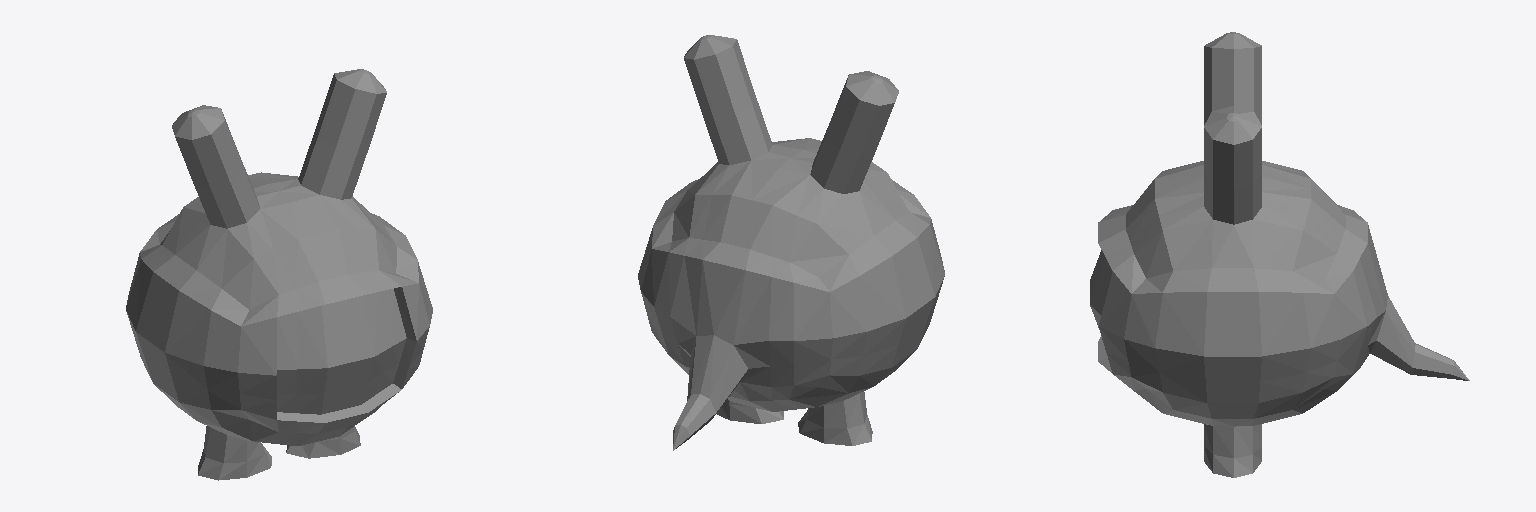
File: enemy.obj
The picture shows the model from 3 angles: view 1: azimuth 30°, elevation 25°; view 2: azimuth 150°, elevation 25°; view 3: azimuth 270°, elevation 25°; orthographic projection.
Parts seen in each view (by area): view 1: Box010; view 2: Box010; view 3: Box010.
Boxes of the visible parts, <box> form: Box010: <box>126,69,432,480</box>; Box010: <box>638,35,944,450</box>; Box010: <box>1090,32,1469,477</box>.
Size of the model in its own units: 77.21 by 104 by 98.52.